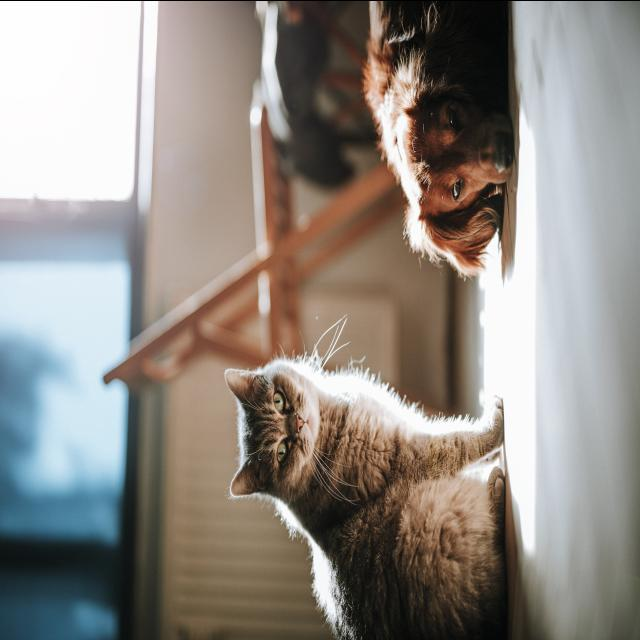cat: (219, 336, 524, 640)
dog: (346, 0, 514, 268)
